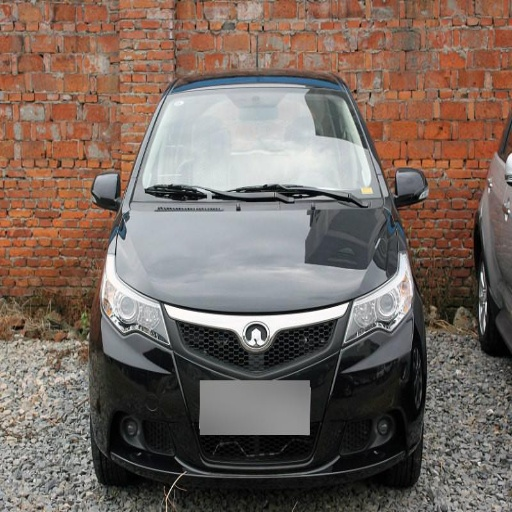front_bumper: (101, 300, 421, 475)
front_right_light: (100, 272, 168, 345)
hood: (115, 196, 395, 309)
